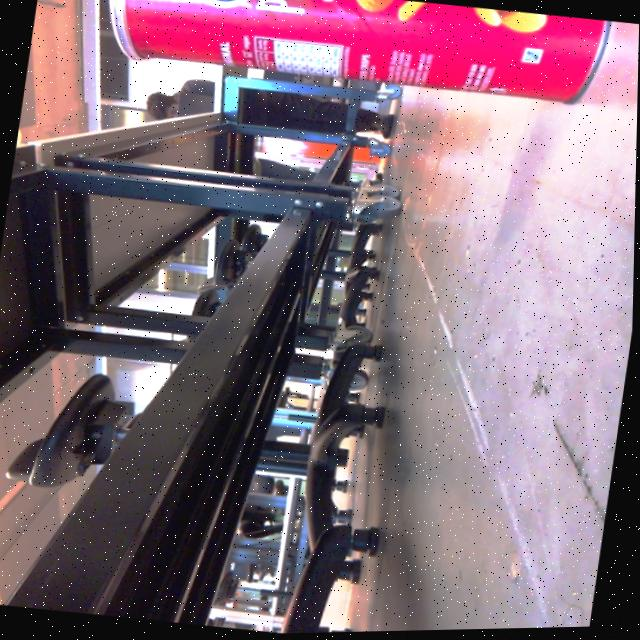redpringles: (91, 0, 638, 130)
